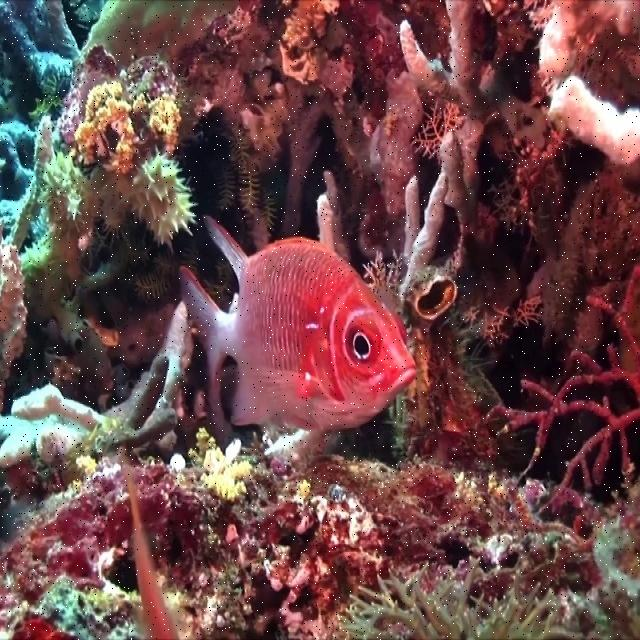fish: (177, 214, 416, 449)
reefs: (18, 145, 202, 348), (0, 299, 188, 472), (397, 0, 500, 309), (338, 555, 587, 639), (75, 82, 180, 171), (544, 76, 639, 166), (317, 168, 354, 261)
